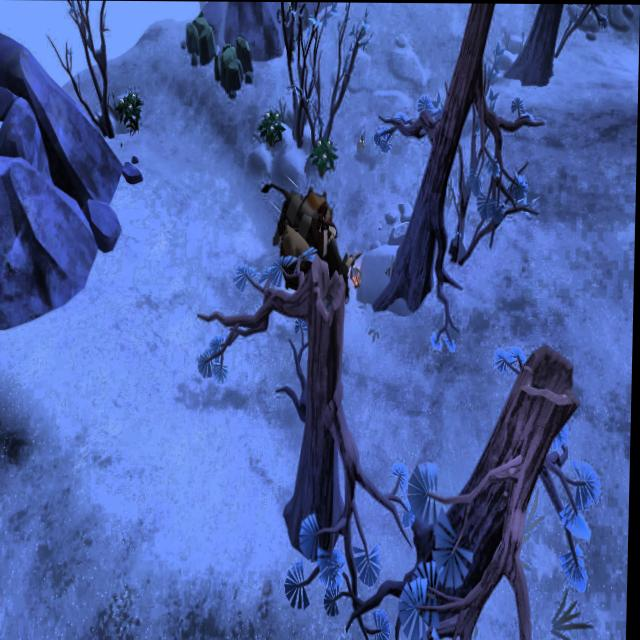fiber_t3: (307, 134, 341, 181), (259, 102, 286, 151), (113, 88, 142, 132)
rock_t3: (215, 33, 255, 100), (181, 5, 216, 68)
